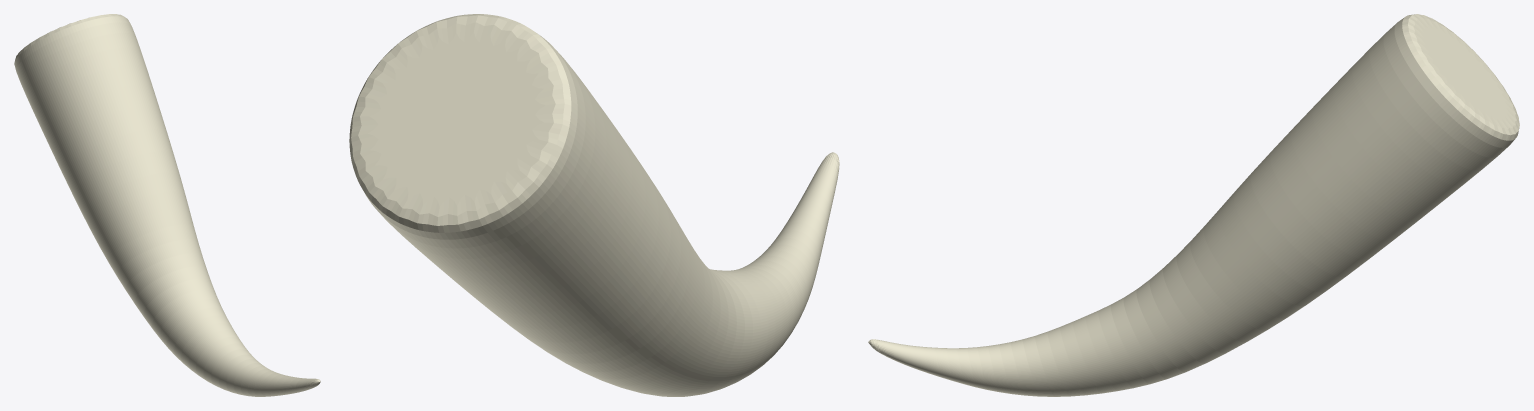
The picture shows the model from 3 angles, left to right: view 1: azimuth 30°, elevation 25°; view 2: azimuth 150°, elevation 25°; view 3: azimuth 270°, elevation 25°; orthographic projection. The views are drawn at different scales.
Parts seen in each view (by area): view 1: 柱体; view 2: 柱体; view 3: 柱体.
Boxes of the visible parts, x1,y1,x2,y2 form: 柱体: (14, 14, 320, 396); 柱体: (349, 14, 839, 396); 柱体: (868, 14, 1519, 396).
Bounding box in the file's own units: 234 × 570 × 917.
